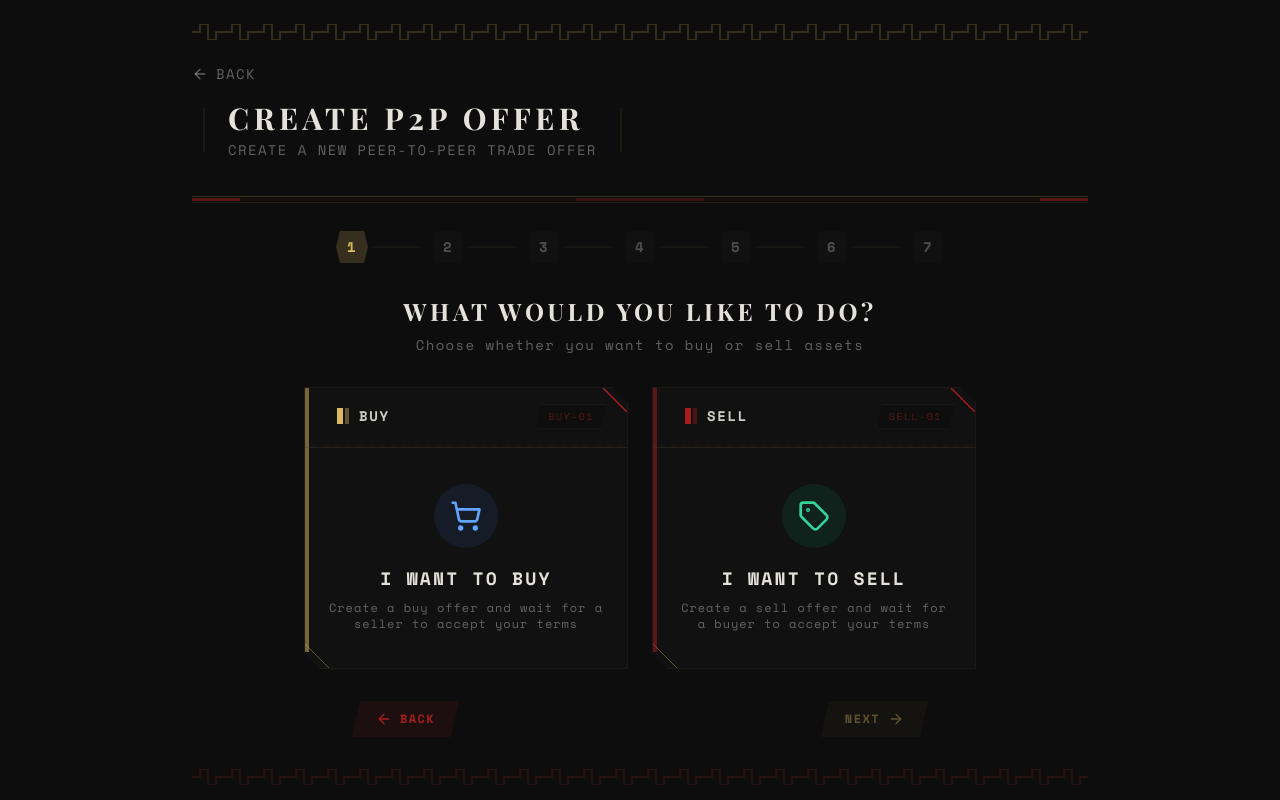
Test: Create P2P Offer Page › step 2: buy flow - asset selection with attributes › should show all supported asset classes in buy flow
Click the heading "I want to Buy".
click(466, 578)  # box [380,565,552,591]
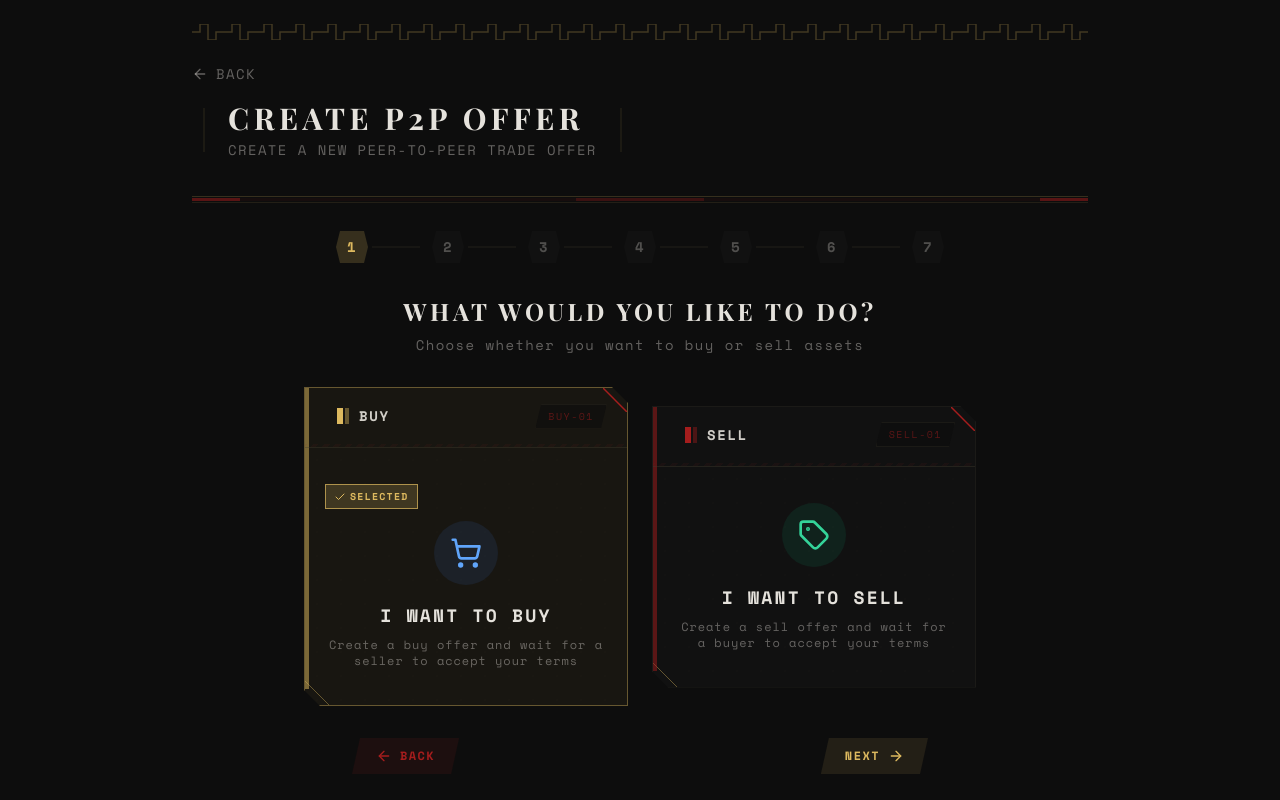
Click the button "Next".
click(874, 756)  # box [821,738,928,774]
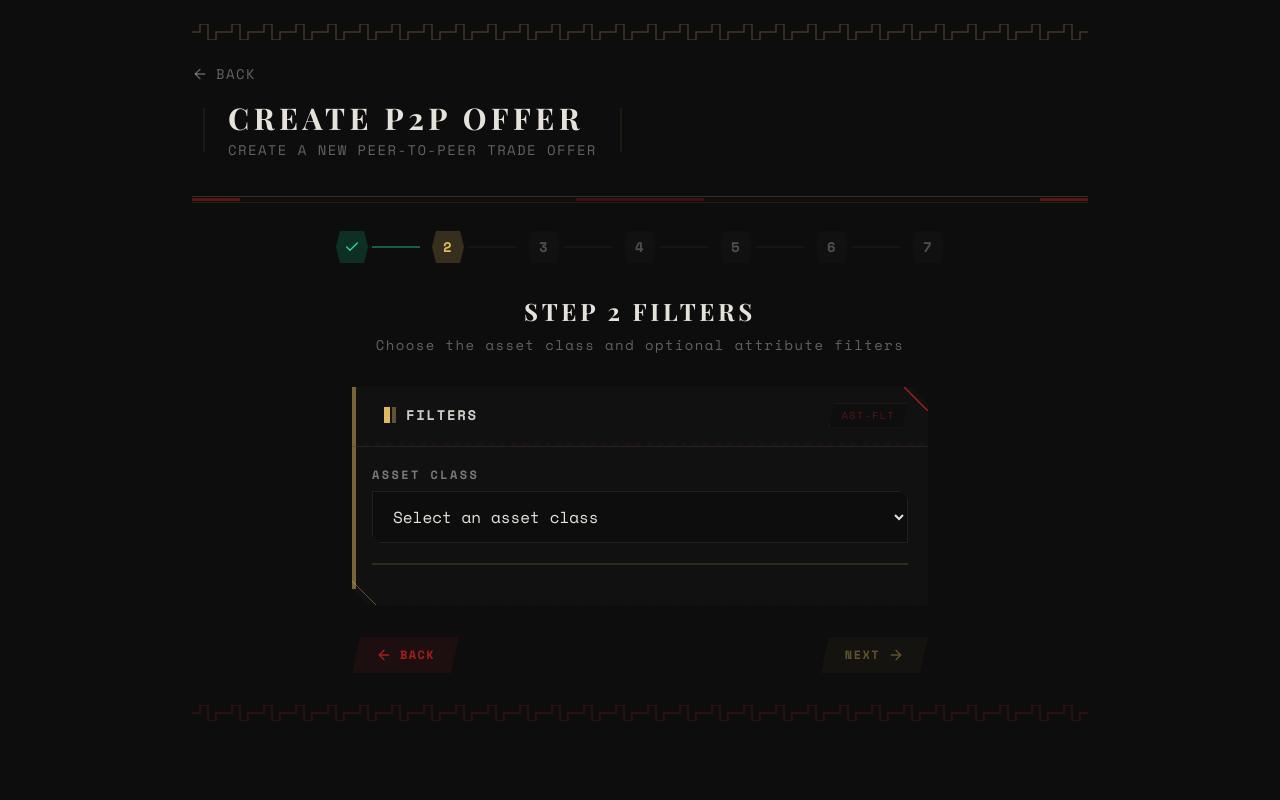
Expected: the text "Asset Class" is shown, [372,466,479,483]
